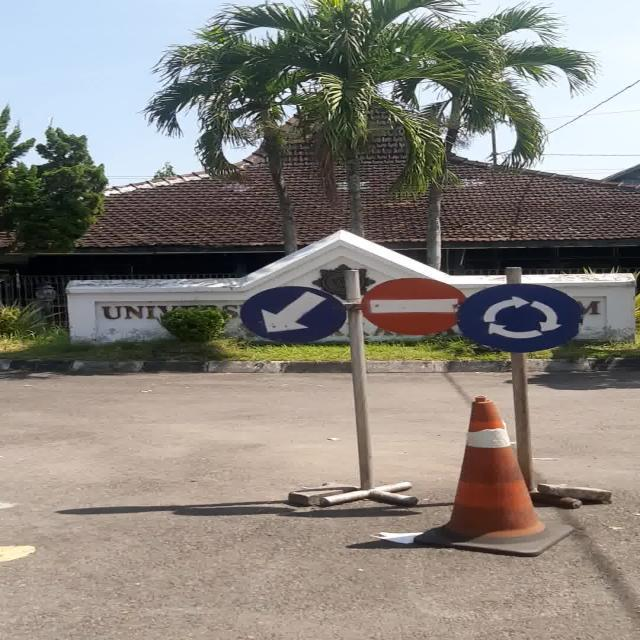Ikuti Bundaran: (458, 283, 584, 353)
Lajur Kiri: (240, 286, 348, 344)
